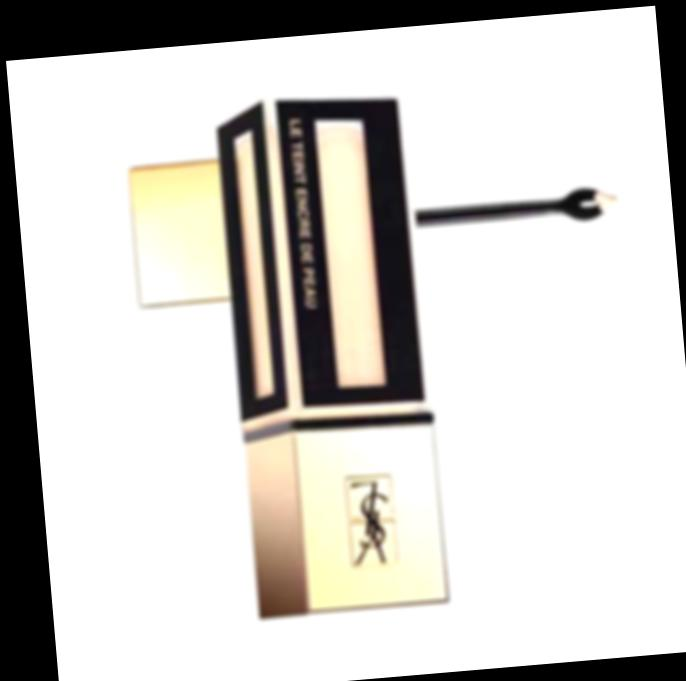cosmetic: (209, 85, 447, 618)
